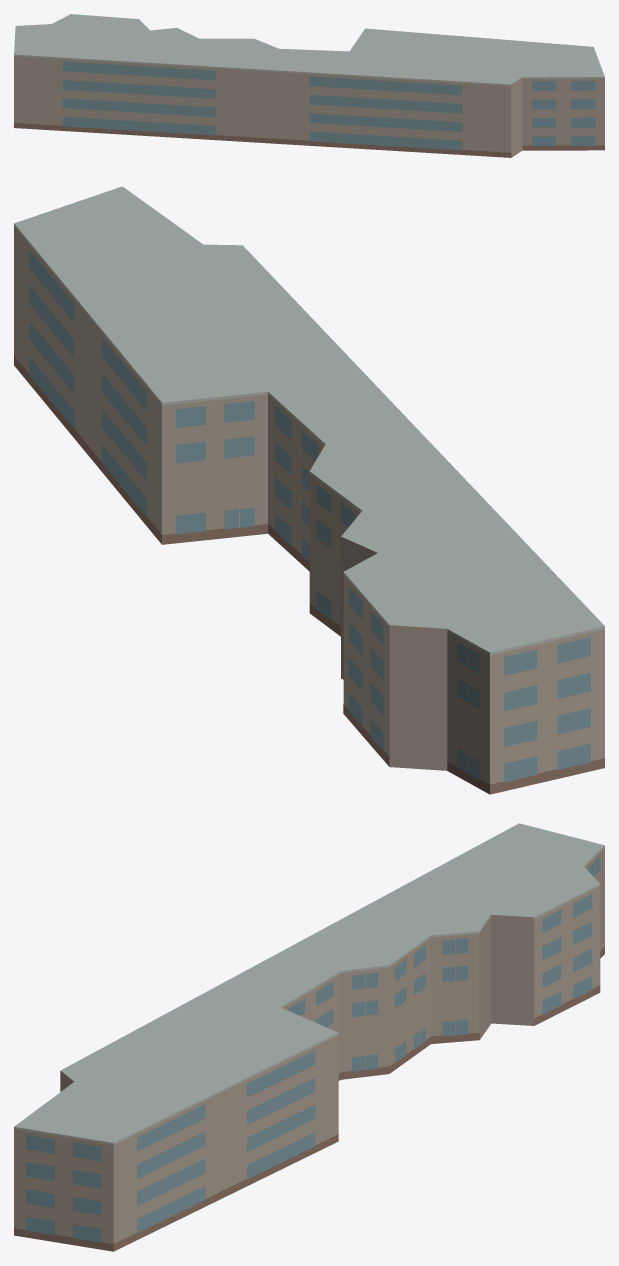
Rendered from residential-d31dbc78-affd-46bf-90e8-4bf15fa3daf3.glb.
The picture shows the model from 3 angles, top to bottom: view 1: azimuth 30°, elevation 25°; view 2: azimuth 150°, elevation 25°; view 3: azimuth 270°, elevation 25°; orthographic projection. The views are drawn at different scales.
Visible parts, largest first — view 1: residential-d31dbc78-affd-46bf-90e8-4bf15fa3daf3.tmp; view 2: residential-d31dbc78-affd-46bf-90e8-4bf15fa3daf3.tmp; view 3: residential-d31dbc78-affd-46bf-90e8-4bf15fa3daf3.tmp.
Boxes of the visible parts, <box> form: residential-d31dbc78-affd-46bf-90e8-4bf15fa3daf3.tmp: <box>14,14,604,157</box>; residential-d31dbc78-affd-46bf-90e8-4bf15fa3daf3.tmp: <box>14,186,604,794</box>; residential-d31dbc78-affd-46bf-90e8-4bf15fa3daf3.tmp: <box>14,823,604,1251</box>.
Bounding box in the file's own units: 76.95 × 12.2 × 60.1.
